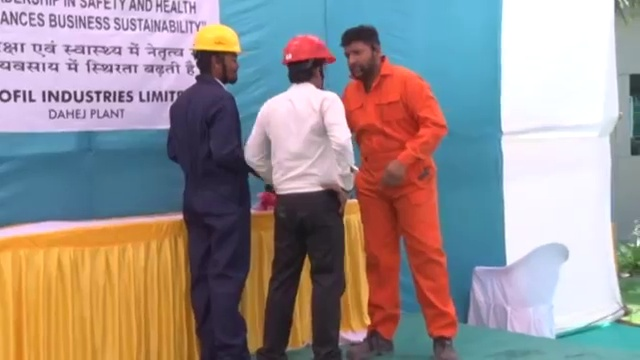helmet: (281, 30, 337, 67), (191, 20, 243, 56)
helmet_off: (341, 26, 383, 81)
helmet_on: (190, 19, 242, 87), (280, 31, 336, 90)
person: (338, 24, 461, 359), (243, 29, 350, 360), (165, 18, 253, 360)
